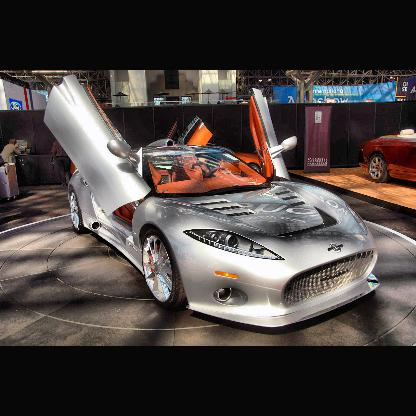Spyker C8 Coupe 2009: (42, 71, 383, 334)
